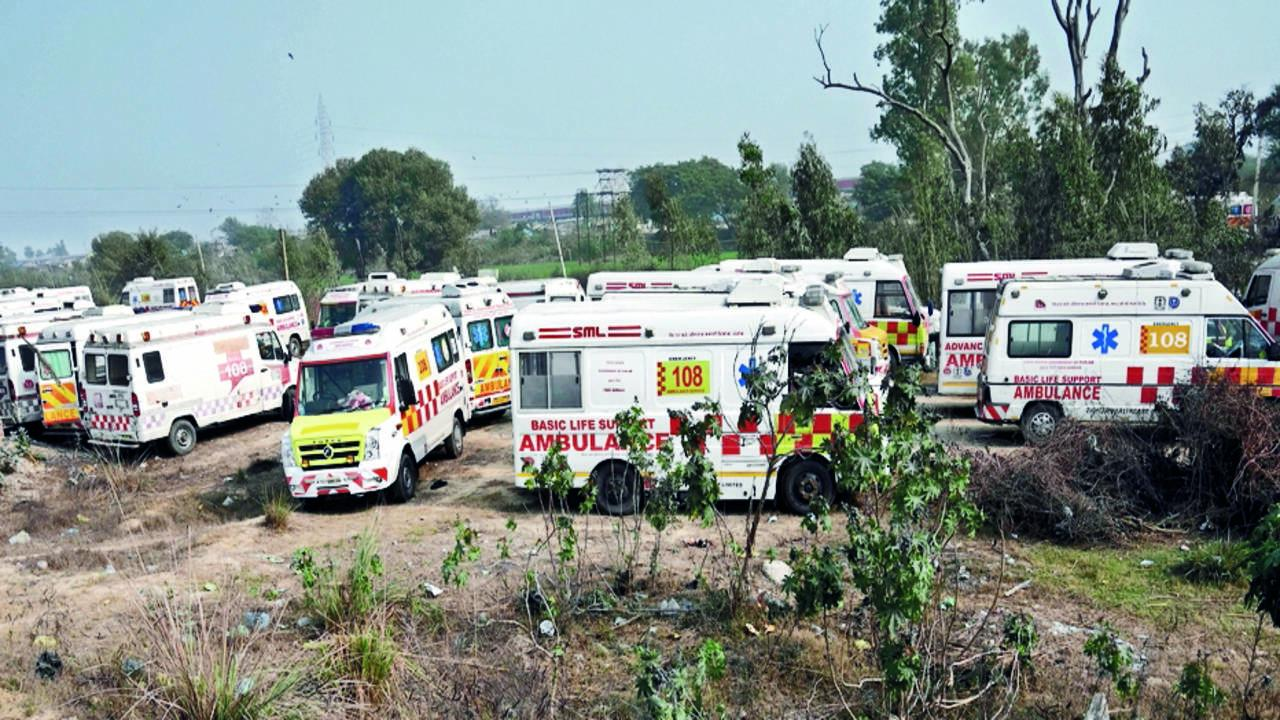ER: (511, 289, 886, 517), (976, 272, 1280, 425), (280, 294, 467, 503), (83, 307, 299, 455)
